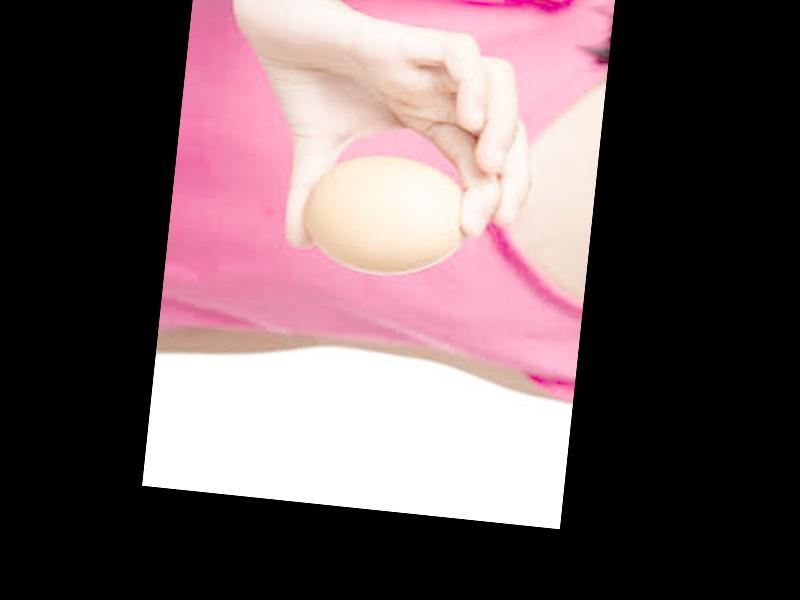Eggs: (300, 148, 477, 281)
